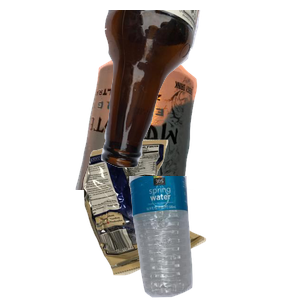glass: (99, 10, 300, 170)
metal: (73, 52, 263, 232)
plastic: (127, 176, 300, 300)
trash: (81, 137, 280, 300)
